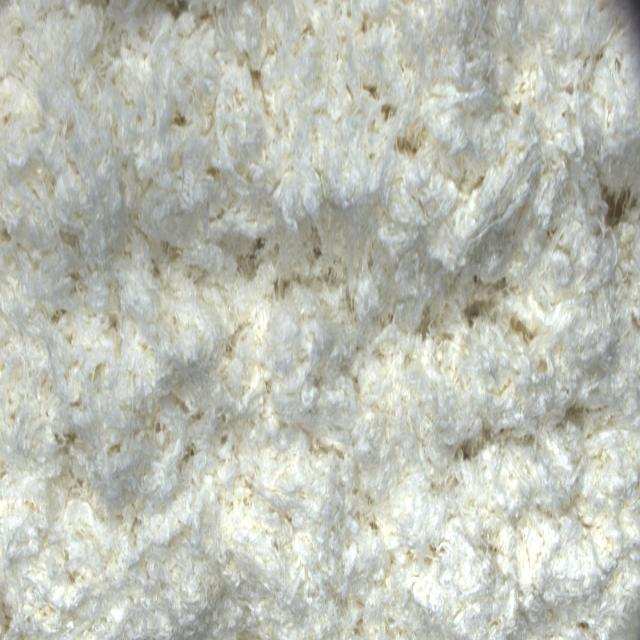dust: (604, 183, 629, 239), (465, 285, 489, 338)
